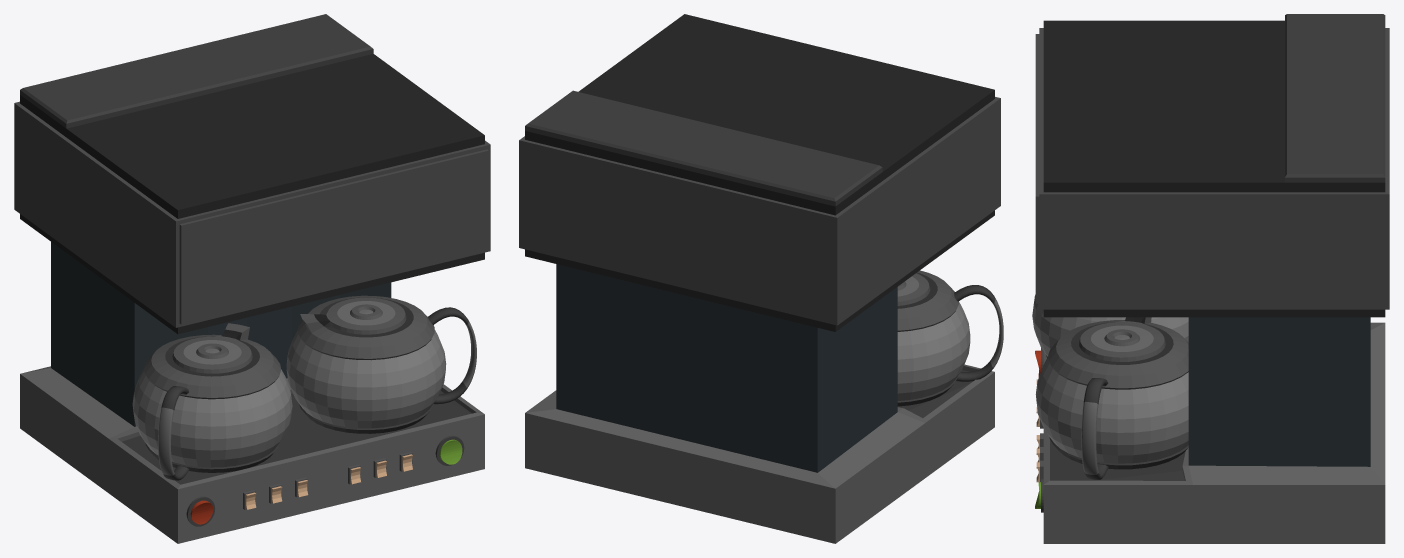
The model's file is Coffee Machine #2 w_Pots.fbx.
The picture shows the model from 3 angles, left to right: view 1: azimuth 30°, elevation 25°; view 2: azimuth 150°, elevation 25°; view 3: azimuth 270°, elevation 25°; orthographic projection. The views are drawn at different scales.
Parts seen in each view (by area): view 1: Coffee Machine #2 w_Pots; view 2: Coffee Machine #2 w_Pots; view 3: Coffee Machine #2 w_Pots.
Boxes of the visible parts, box(x1,y1,x2,y2) form: Coffee Machine #2 w_Pots: box(14, 14, 490, 543); Coffee Machine #2 w_Pots: box(519, 14, 1003, 543); Coffee Machine #2 w_Pots: box(1032, 14, 1389, 543).
Bounding box in the file's own units: 90.57 × 88.49 × 77.72.
Materials: 2 (2 with a texture image).
